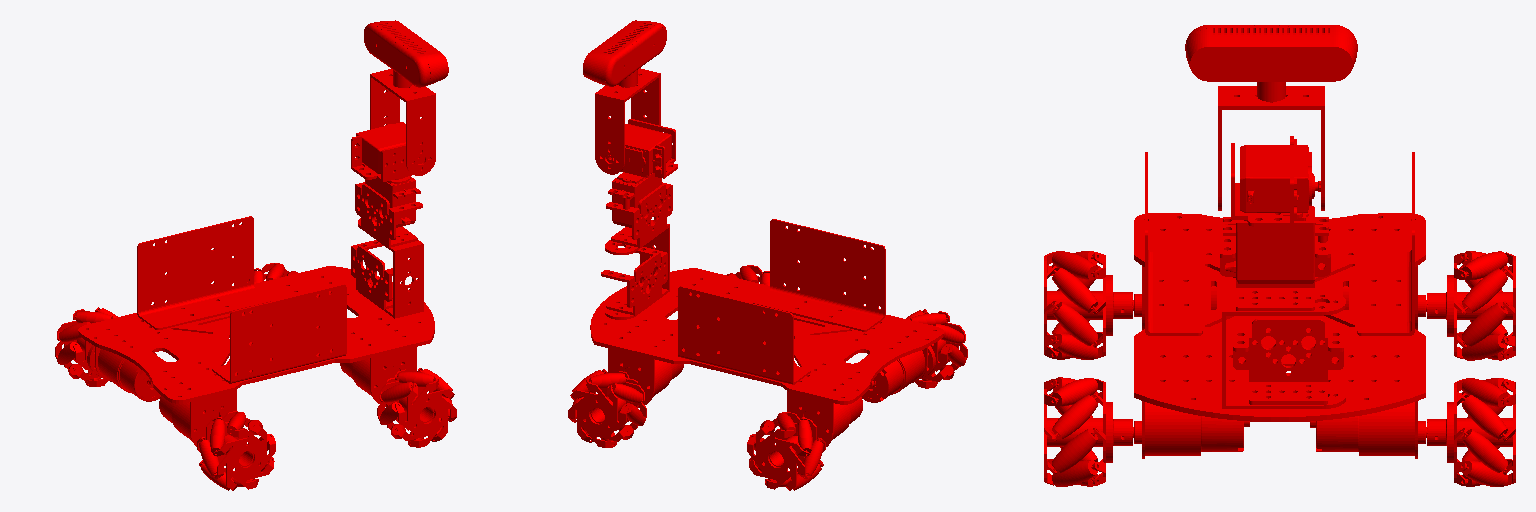
--- Render facts (derived) ---
Views: 3 orthographic renders of the robot side by side, from view 1: azimuth 30°, elevation 25°; view 2: azimuth 150°, elevation 25°; view 3: azimuth 270°, elevation 25°.
Model CAR_v000 with 57 links and 56 joints (38 continuous, 18 fixed), rooted at base_link, posed all joints at 0.
Visible links, largest first — view 1: base_link, Side_board_2, Side_board_1, Gear_Pan_Neck_1, D354_1, RightWheel_2, LeftWheel_2, Gear_Pan_Base_1, carboat_2_1, carboat_bot_1, Wheel_Motor_1, carboat_3_1 (+7 smaller); view 2: base_link, Side_board_1, Side_board_2, Gear_Pan_Neck_1, D354_1, LeftWheel_1, RightWheel_1, carboat_bot_1, carboat_2_1, Servo2_1, Wheel_Motor_4, Servo1_1 (+7 smaller); view 3: base_link, D354_1, carboat_bot_1, Servo1_1, Side_board_1, Side_board_2, Servo2_1, Wheel_Motor_2, Wheel_Motor_3, carboat_2_1, LeftWheel_1, LeftWheel_2 (+22 smaller).
Boxes of the visible links, <box> form: base_link: <box>78,266,434,403</box>; Side_board_2: <box>137,216,270,329</box>; Side_board_1: <box>212,284,346,383</box>; Gear_Pan_Neck_1: <box>370,69,435,175</box>; D354_1: <box>364,20,448,87</box>; RightWheel_2: <box>377,368,456,447</box>; LeftWheel_2: <box>197,411,275,490</box>; Gear_Pan_Base_1: <box>358,217,423,318</box>; carboat_2_1: <box>355,182,422,247</box>; carboat_bot_1: <box>351,240,409,309</box>; Wheel_Motor_1: <box>98,349,160,401</box>; carboat_3_1: <box>351,136,429,182</box>; base_link: <box>590,268,943,404</box>; Side_board_1: <box>753,219,885,331</box>; Side_board_2: <box>678,286,810,384</box>; Gear_Pan_Neck_1: <box>595,68,660,174</box>; D354_1: <box>583,20,666,86</box>; LeftWheel_1: <box>568,369,646,447</box>; RightWheel_1: <box>747,412,825,490</box>; carboat_bot_1: <box>601,247,667,315</box>; carboat_2_1: <box>606,182,672,247</box>; Servo2_1: <box>601,124,671,175</box>; Wheel_Motor_4: <box>862,350,924,402</box>; Servo1_1: <box>608,172,661,227</box>; base_link: <box>1134,213,1425,421</box>; D354_1: <box>1185,25,1357,81</box>; carboat_bot_1: <box>1233,319,1343,404</box>; Servo1_1: <box>1223,206,1328,283</box>; Side_board_1: <box>1145,152,1202,335</box>; Side_board_2: <box>1357,152,1414,335</box>; Servo2_1: <box>1240,139,1320,218</box>; Wheel_Motor_2: <box>1310,402,1437,455</box>; Wheel_Motor_3: <box>1122,402,1249,455</box>; carboat_2_1: <box>1220,233,1330,310</box>; LeftWheel_1: <box>1427,379,1515,485</box>; LeftWheel_2: <box>1044,252,1132,358</box>.
Bounding box of the posed robot: 0.2587 × 0.2457 × 0.2818 m (x, y, z).
57 mesh visuals loaded from 57 distinct referenced files (57 binary STL).

The robot description file, URDF, robot "CAR_v000":
<?xml version="1.0" ?>
<robot name="CAR_v000">
<link name="base_link">
  <inertial>
    <origin rpy="0 0 0" xyz="0.09570508957541472 -0.007999999999984186 -0.001500000000000009"/>
    <mass value="0.7665979453758464"/>
    <inertia ixx="0.001404" ixy="-0.0" ixz="0.0" iyy="0.00383" iyz="-0.0" izz="0.005233"/>
  </inertial>
  <visual>
    <origin rpy="0 0 0" xyz="0 0 0"/>
    <geometry>
      <mesh filename="bin_stl/base_link_m-binary.stl"/>
    </geometry>
    <material name="silver">
      <color rgba="1 0 0 1"/>
    </material>
  </visual>
  <collision>
    <origin rpy="0 0 0" xyz="0 0 0"/>
    <geometry>
      <mesh filename="bin_stl/base_link_m-binary.stl"/>
    </geometry>
  </collision>
</link>
<link name="Wheel_Motor_holder_v4_1">
  <inertial>
    <origin rpy="0 0 0" xyz="0.014980279064389493 -0.0014695146767486275 -0.009738743339461516"/>
    <mass value="0.04206846428767663"/>
    <inertia ixx="1.5e-05" ixy="0.0" ixz="-0.0" iyy="1.3e-05" iyz="4e-06" izz="1.4e-05"/>
  </inertial>
  <visual>
    <origin rpy="0 0 0" xyz="0.009 -0.053 0.003"/>
    <geometry>
      <mesh filename="bin_stl/Wheel_Motor_holder_v4_1_m-binary.stl"/>
    </geometry>
    <material name="silver">
      <color rgba="1 0 0 1"/>
    </material>
  </visual>
  <collision>
    <origin rpy="0 0 0" xyz="0.009 -0.053 0.003"/>
    <geometry>
      <mesh filename="bin_stl/Wheel_Motor_holder_v4_1_m-binary.stl"/>
    </geometry>
  </collision>
</link>
<link name="Wheel_Motor_holder_v4_2">
  <inertial>
    <origin rpy="0 0 0" xyz="-0.01501995653690974 -0.0014695146767421535 -0.009738743339461703"/>
    <mass value="0.04206846428767663"/>
    <inertia ixx="1.5e-05" ixy="0.0" ixz="-0.0" iyy="1.3e-05" iyz="4e-06" izz="1.4e-05"/>
  </inertial>
  <visual>
    <origin rpy="0 0 0" xyz="-0.177224 -0.053 0.003"/>
    <geometry>
      <mesh filename="bin_stl/Wheel_Motor_holder_v4_2_m-binary.stl"/>
    </geometry>
    <material name="silver">
      <color rgba="1 0 0 1"/>
    </material>
  </visual>
  <collision>
    <origin rpy="0 0 0" xyz="-0.177224 -0.053 0.003"/>
    <geometry>
      <mesh filename="bin_stl/Wheel_Motor_holder_v4_2_m-binary.stl"/>
    </geometry>
  </collision>
</link>
<link name="Wheel_Motor_holder_v4_3">
  <inertial>
    <origin rpy="0 0 0" xyz="-0.014980514665696831 0.0014695146767694511 -0.009738743339462005"/>
    <mass value="0.04206846428767663"/>
    <inertia ixx="1.5e-05" ixy="0.0" ixz="0.0" iyy="1.3e-05" iyz="-4e-06" izz="1.4e-05"/>
  </inertial>
  <visual>
    <origin rpy="0 0 0" xyz="-0.177224 0.069 0.003"/>
    <geometry>
      <mesh filename="bin_stl/Wheel_Motor_holder_v4_3_m-binary.stl"/>
    </geometry>
    <material name="silver">
      <color rgba="1 0 0 1"/>
    </material>
  </visual>
  <collision>
    <origin rpy="0 0 0" xyz="-0.177224 0.069 0.003"/>
    <geometry>
      <mesh filename="bin_stl/Wheel_Motor_holder_v4_3_m-binary.stl"/>
    </geometry>
  </collision>
</link>
<link name="Wheel_Motor_holder_v4_4">
  <inertial>
    <origin rpy="0 0 0" xyz="0.015019720935602422 0.001469514676748787 -0.00973874333946173"/>
    <mass value="0.04206846428767663"/>
    <inertia ixx="1.5e-05" ixy="0.0" ixz="0.0" iyy="1.3e-05" iyz="-4e-06" izz="1.4e-05"/>
  </inertial>
  <visual>
    <origin rpy="0 0 0" xyz="0.009 0.069 0.003"/>
    <geometry>
      <mesh filename="bin_stl/Wheel_Motor_holder_v4_4_m-binary.stl"/>
    </geometry>
    <material name="silver">
      <color rgba="1 0 0 1"/>
    </material>
  </visual>
  <collision>
    <origin rpy="0 0 0" xyz="0.009 0.069 0.003"/>
    <geometry>
      <mesh filename="bin_stl/Wheel_Motor_holder_v4_4_m-binary.stl"/>
    </geometry>
  </collision>
</link>
<link name="Side_board_1">
  <inertial>
    <origin rpy="0 0 0" xyz="-0.01494917383573581 -0.0028935529397421528 0.020556902828266686"/>
    <mass value="0.10281385598487688"/>
    <inertia ixx="4.7e-05" ixy="0.0" ixz="-0.0" iyy="0.000126" iyz="1e-05" izz="9.3e-05"/>
  </inertial>
  <visual>
    <origin rpy="0 0 0" xyz="-0.087 0.0699 0.0"/>
    <geometry>
      <mesh filename="bin_stl/Side_board_1_m-binary.stl"/>
    </geometry>
    <material name="silver">
      <color rgba="1 0 0 1"/>
    </material>
  </visual>
  <collision>
    <origin rpy="0 0 0" xyz="-0.087 0.0699 0.0"/>
    <geometry>
      <mesh filename="bin_stl/Side_board_1_m-binary.stl"/>
    </geometry>
  </collision>
</link>
<link name="Side_board_2">
  <inertial>
    <origin rpy="0 0 0" xyz="0.014949173835727282 0.0028935529397536713 0.020556902828266877"/>
    <mass value="0.10281385598487688"/>
    <inertia ixx="4.7e-05" ixy="0.0" ixz="0.0" iyy="0.000126" iyz="-1e-05" izz="9.3e-05"/>
  </inertial>
  <visual>
    <origin rpy="0 0 0" xyz="-0.057 -0.0539 -0.0"/>
    <geometry>
      <mesh filename="bin_stl/Side_board_2_m-binary.stl"/>
    </geometry>
    <material name="silver">
      <color rgba="1 0 0 1"/>
    </material>
  </visual>
  <collision>
    <origin rpy="0 0 0" xyz="-0.057 -0.0539 -0.0"/>
    <geometry>
      <mesh filename="bin_stl/Side_board_2_m-binary.stl"/>
    </geometry>
  </collision>
</link>
<link name="Gear_Pan_Base_1">
  <inertial>
    <origin rpy="0 0 0" xyz="-3.3728011883393805e-07 -0.023523519255164074 0.02799999999429037"/>
    <mass value="0.06854334361559104"/>
    <inertia ixx="6.7e-05" ixy="-0.0" ixz="0.0" iyy="4.4e-05" iyz="0.0" izz="3.1e-05"/>
  </inertial>
  <visual>
    <origin rpy="0 0 0" xyz="-0.199724 -0.007 -0.0"/>
    <geometry>
      <mesh filename="bin_stl/Gear_Pan_Base_1_m-binary.stl"/>
    </geometry>
    <material name="silver">
      <color rgba="1 0 0 1"/>
    </material>
  </visual>
  <collision>
    <origin rpy="0 0 0" xyz="-0.199724 -0.007 -0.0"/>
    <geometry>
      <mesh filename="bin_stl/Gear_Pan_Base_1_m-binary.stl"/>
    </geometry>
  </collision>
</link>
<link name="carboat_bot_1">
  <inertial>
    <origin rpy="0 0 0" xyz="-0.007337979399613531 0.017499972137289294 0.014605907953560182"/>
    <mass value="0.0475172457350421"/>
    <inertia ixx="2e-05" ixy="0.0" ixz="1e-06" iyy="1.1e-05" iyz="0.0" izz="1.5e-05"/>
  </inertial>
  <visual>
    <origin rpy="0 0 0" xyz="-0.199724 0.021 -0.0021"/>
    <geometry>
      <mesh filename="bin_stl/carboat_bot_1_m-binary.stl"/>
    </geometry>
    <material name="silver">
      <color rgba="1 0 0 1"/>
    </material>
  </visual>
  <collision>
    <origin rpy="0 0 0" xyz="-0.199724 0.021 -0.0021"/>
    <geometry>
      <mesh filename="bin_stl/carboat_bot_1_m-binary.stl"/>
    </geometry>
  </collision>
</link>
<link name="carboat_2_1">
  <inertial>
    <origin rpy="0 0 0" xyz="-0.00733797939961317 0.010499972137289105 0.014605907953560197"/>
    <mass value="0.0475172457350421"/>
    <inertia ixx="2e-05" ixy="0.0" ixz="1e-06" iyy="1.1e-05" iyz="0.0" izz="1.5e-05"/>
  </inertial>
  <visual>
    <origin rpy="0 0 0" xyz="-0.199724 0.021 -0.056"/>
    <geometry>
      <mesh filename="bin_stl/carboat_2_1_m-binary.stl"/>
    </geometry>
    <material name="silver">
      <color rgba="1 0 0 1"/>
    </material>
  </visual>
  <collision>
    <origin rpy="0 0 0" xyz="-0.199724 0.021 -0.056"/>
    <geometry>
      <mesh filename="bin_stl/carboat_2_1_m-binary.stl"/>
    </geometry>
  </collision>
</link>
<link name="carboat_3_1">
  <inertial>
    <origin rpy="0 0 0" xyz="-2.5216919485870903e-07 0.0005055238507020443 0.005662256589116094"/>
    <mass value="0.0475172457350421"/>
    <inertia ixx="1.1e-05" ixy="0.0" ixz="0.0" iyy="1.5e-05" iyz="1e-06" izz="2e-05"/>
  </inertial>
  <visual>
    <origin rpy="0 0 0" xyz="-0.199739 0.019476 -0.113752"/>
    <geometry>
      <mesh filename="bin_stl/carboat_3_1_m-binary.stl"/>
    </geometry>
    <material name="silver">
      <color rgba="1 0 0 1"/>
    </material>
  </visual>
  <collision>
    <origin rpy="0 0 0" xyz="-0.199739 0.019476 -0.113752"/>
    <geometry>
      <mesh filename="bin_stl/carboat_3_1_m-binary.stl"/>
    </geometry>
  </collision>
</link>
<link name="motor_support_1">
  <inertial>
    <origin rpy="0 0 0" xyz="-2.2430746302037896e-07 -3.8410285859748206e-07 0.004826000000000011"/>
    <mass value="0.0009521312819828578"/>
    <inertia ixx="0.0" ixy="-0.0" ixz="0.0" iyy="0.0" iyz="-0.0" izz="0.0"/>
  </inertial>
  <visual>
    <origin rpy="0 0 0" xyz="-0.194739 -0.014374 -0.0887"/>
    <geometry>
      <mesh filename="bin_stl/motor_support_1_m-binary.stl"/>
    </geometry>
    <material name="silver">
      <color rgba="1 0 0 1"/>
    </material>
  </visual>
  <collision>
    <origin rpy="0 0 0" xyz="-0.194739 -0.014374 -0.0887"/>
    <geometry>
      <mesh filename="bin_stl/motor_support_1_m-binary.stl"/>
    </geometry>
  </collision>
</link>
<link name="Servo1_1">
  <inertial>
    <origin rpy="0 0 0" xyz="0.004999776361403502 -0.024825025821425904 -0.009085741817137366"/>
    <mass value="0.25554569845209546"/>
    <inertia ixx="6.7e-05" ixy="0.0" ixz="-0.0" iyy="3.9e-05" iyz="0.0" izz="4.7e-05"/>
  </inertial>
  <visual>
    <origin rpy="0 0 0" xyz="-0.194739 -0.014374 -0.098352"/>
    <geometry>
      <mesh filename="bin_stl/Servo1_1_m-binary.stl"/>
    </geometry>
    <material name="silver">
      <color rgba="1 0 0 1"/>
    </material>
  </visual>
  <collision>
    <origin rpy="0 0 0" xyz="-0.194739 -0.014374 -0.098352"/>
    <geometry>
      <mesh filename="bin_stl/Servo1_1_m-binary.stl"/>
    </geometry>
  </collision>
</link>
<link name="Camera_support_1">
  <inertial>
    <origin rpy="0 0 0" xyz="3.9159065723382014e-07 -3.841030241733684e-07 0.006350011703253555"/>
    <mass value="0.012606343453885066"/>
    <inertia ixx="0.0" ixy="0.0" ixz="0.0" iyy="0.0" iyz="0.0" izz="0.0"/>
  </inertial>
  <visual>
    <origin rpy="0 0 0" xyz="-0.209162 0.012426 -0.178792"/>
    <geometry>
      <mesh filename="bin_stl/Camera_support_1_m-binary.stl"/>
    </geometry>
    <material name="silver">
      <color rgba="1 0 0 1"/>
    </material>
  </visual>
  <collision>
    <origin rpy="0 0 0" xyz="-0.209162 0.012426 -0.178792"/>
    <geometry>
      <mesh filename="bin_stl/Camera_support_1_m-binary.stl"/>
    </geometry>
  </collision>
</link>
<link name="D354_1">
  <inertial>
    <origin rpy="0 0 0" xyz="0.0019018702340913296 0.00024690506094453626 0.012439152691298971"/>
    <mass value="0.35132125245300416"/>
    <inertia ixx="0.000227" ixy="-1e-06" ixz="-0.0" iyy="3.2e-05" iyz="-0.0" izz="0.000229"/>
  </inertial>
  <visual>
    <origin rpy="0 0 0" xyz="-0.209162 0.012426 -0.191492"/>
    <geometry>
      <mesh filename="bin_stl/D354_1_m-binary.stl"/>
    </geometry>
    <material name="silver">
      <color rgba="1 0 0 1"/>
    </material>
  </visual>
  <collision>
    <origin rpy="0 0 0" xyz="-0.209162 0.012426 -0.191492"/>
    <geometry>
      <mesh filename="bin_stl/D354_1_m-binary.stl"/>
    </geometry>
  </collision>
</link>
<link name="Wheel_Motor_1">
  <inertial>
    <origin rpy="0 0 0" xyz="-0.01549413298973287 -0.024753744950228453 -0.00033026828675572495"/>
    <mass value="0.1253897990307548"/>
    <inertia ixx="5.8e-05" ixy="0.0" ixz="-0.0" iyy="2.2e-05" iyz="1e-06" izz="5.8e-05"/>
  </inertial>
  <visual>
    <origin rpy="0 0 0" xyz="-0.0218 -0.06235 0.029675"/>
    <geometry>
      <mesh filename="bin_stl/Wheel_Motor_1_m-binary.stl"/>
    </geometry>
    <material name="silver">
      <color rgba="1 0 0 1"/>
    </material>
  </visual>
  <collision>
    <origin rpy="0 0 0" xyz="-0.0218 -0.06235 0.029675"/>
    <geometry>
      <mesh filename="bin_stl/Wheel_Motor_1_m-binary.stl"/>
    </geometry>
  </collision>
</link>
<link name="Wheel_Motor_2">
  <inertial>
    <origin rpy="0 0 0" xyz="-0.015494368591032287 -0.024753744950222062 -0.0003302682867558915"/>
    <mass value="0.1253897990307548"/>
    <inertia ixx="5.8e-05" ixy="0.0" ixz="-0.0" iyy="2.2e-05" iyz="1e-06" izz="5.8e-05"/>
  </inertial>
  <visual>
    <origin rpy="0 0 0" xyz="-0.178024 -0.06235 0.029675"/>
    <geometry>
      <mesh filename="bin_stl/Wheel_Motor_2_m-binary.stl"/>
    </geometry>
    <material name="silver">
      <color rgba="1 0 0 1"/>
    </material>
  </visual>
  <collision>
    <origin rpy="0 0 0" xyz="-0.178024 -0.06235 0.029675"/>
    <geometry>
      <mesh filename="bin_stl/Wheel_Motor_2_m-binary.stl"/>
    </geometry>
  </collision>
</link>
<link name="Wheel_Motor_3">
  <inertial>
    <origin rpy="0 0 0" xyz="-0.015506102611575256 0.024753744950248603 -0.0003302682867560927"/>
    <mass value="0.1253897990307548"/>
    <inertia ixx="5.8e-05" ixy="0.0" ixz="0.0" iyy="2.2e-05" iyz="-1e-06" izz="5.8e-05"/>
  </inertial>
  <visual>
    <origin rpy="0 0 0" xyz="-0.177674 0.07835 0.029675"/>
    <geometry>
      <mesh filename="bin_stl/Wheel_Motor_3_m-binary.stl"/>
    </geometry>
    <material name="silver">
      <color rgba="1 0 0 1"/>
    </material>
  </visual>
  <collision>
    <origin rpy="0 0 0" xyz="-0.177674 0.07835 0.029675"/>
    <geometry>
      <mesh filename="bin_stl/Wheel_Motor_3_m-binary.stl"/>
    </geometry>
  </collision>
</link>
<link name="Wheel_Motor_4">
  <inertial>
    <origin rpy="0 0 0" xyz="0.015494132989723877 0.02475374495022936 -0.0003302682867558568"/>
    <mass value="0.1253897990307548"/>
    <inertia ixx="5.8e-05" ixy="0.0" ixz="0.0" iyy="2.2e-05" iyz="-1e-06" izz="5.8e-05"/>
  </inertial>
  <visual>
    <origin rpy="0 0 0" xyz="0.0098 0.07835 0.029675"/>
    <geometry>
      <mesh filename="bin_stl/Wheel_Motor_4_m-binary.stl"/>
    </geometry>
    <material name="silver">
      <color rgba="1 0 0 1"/>
    </material>
  </visual>
  <collision>
    <origin rpy="0 0 0" xyz="0.0098 0.07835 0.029675"/>
    <geometry>
      <mesh filename="bin_stl/Wheel_Motor_4_m-binary.stl"/>
    </geometry>
  </collision>
</link>
<link name="satelitewheel_1">
  <inertial>
    <origin rpy="0 0 0" xyz="1.3397573075946134e-07 -3.6957705445983535e-07 6.742742474780128e-08"/>
    <mass value="0.0020070751161032695"/>
    <inertia ixx="0.0" ixy="-0.0" ixz="0.0" iyy="0.0" iyz="-0.0" izz="0.0"/>
  </inertial>
  <visual>
    <origin rpy="0 0 0" xyz="-0.162525 -0.098849 0.013646"/>
    <geometry>
      <mesh filename="bin_stl/satelitewheel_1_m-binary.stl"/>
    </geometry>
    <material name="silver">
      <color rgba="1 0 0 1"/>
    </material>
  </visual>
  <collision>
    <origin rpy="0 0 0" xyz="-0.162525 -0.098849 0.013646"/>
    <geometry>
      <mesh filename="bin_stl/satelitewheel_1_m-binary.stl"/>
    </geometry>
  </collision>
</link>
<link name="satelitewheel_2">
  <inertial>
    <origin rpy="0 0 0" xyz="-2.7690643081279553e-07 -3.6957705516760253e-07 -2.1820454366994202e-08"/>
    <mass value="0.0020070751161032695"/>
    <inertia ixx="0.0" ixy="-0.0" ixz="-0.0" iyy="0.0" iyz="-0.0" izz="0.0"/>
  </inertial>
  <visual>
    <origin rpy="0 0 0" xyz="-0.146241 -0.098849 0.02039"/>
    <geometry>
      <mesh filename="bin_stl/satelitewheel_2_m-binary.stl"/>
    </geometry>
    <material name="silver">
      <color rgba="1 0 0 1"/>
    </material>
  </visual>
  <collision>
    <origin rpy="0 0 0" xyz="-0.146241 -0.098849 0.02039"/>
    <geometry>
      <mesh filename="bin_stl/satelitewheel_2_m-binary.stl"/>
    </geometry>
  </collision>
</link>
<link name="satelitewheel_3">
  <inertial>
    <origin rpy="0 0 0" xyz="-3.030287325234138e-07 -3.6957705445983535e-07 3.6957703840323486e-07"/>
    <mass value="0.0020070751161032695"/>
    <inertia ixx="0.0" ixy="-0.0" ixz="0.0" iyy="0.0" iyz="-0.0" izz="0.0"/>
  </inertial>
  <visual>
    <origin rpy="0 0 0" xyz="-0.139495 -0.098849 0.036674"/>
    <geometry>
      <mesh filename="bin_stl/satelitewheel_3_m-binary.stl"/>
    </geometry>
    <material name="silver">
      <color rgba="1 0 0 1"/>
    </material>
  </visual>
  <collision>
    <origin rpy="0 0 0" xyz="-0.139495 -0.098849 0.036674"/>
    <geometry>
      <mesh filename="bin_stl/satelitewheel_3_m-binary.stl"/>
    </geometry>
  </collision>
</link>
<link name="satelitewheel_4">
  <inertial>
    <origin rpy="0 0 0" xyz="-2.1378085279799564e-07 -3.695770543210575e-07 -4.1305121635526465e-08"/>
    <mass value="0.0020070751161032695"/>
    <inertia ixx="0.0" ixy="0.0" ixz="0.0" iyy="0.0" iyz="-0.0" izz="0.0"/>
  </inertial>
  <visual>
    <origin rpy="0 0 0" xyz="-0.146239 -0.098849 0.052958"/>
    <geometry>
      <mesh filename="bin_stl/satelitewheel_4_m-binary.stl"/>
    </geometry>
    <material name="silver">
      <color rgba="1 0 0 1"/>
    </material>
  </visual>
  <collision>
    <origin rpy="0 0 0" xyz="-0.146239 -0.098849 0.052958"/>
    <geometry>
      <mesh filename="bin_stl/satelitewheel_4_m-binary.stl"/>
    </geometry>
  </collision>
</link>
<link name="satelitewheel_5">
  <inertial>
    <origin rpy="0 0 0" xyz="3.9482165470339226e-07 -3.695770543210575e-07 -6.742742346410591e-08"/>
    <mass value="0.0020070751161032695"/>
    <inertia ixx="0.0" ixy="0.0" ixz="-0.0" iyy="0.0" iyz="-0.0" izz="0.0"/>
  </inertial>
  <visual>
    <origin rpy="0 0 0" xyz="-0.162522 -0.098849 0.059704"/>
    <geometry>
      <mesh filename="bin_stl/satelitewheel_5_m-binary.stl"/>
    </geometry>
    <material name="silver">
      <color rgba="1 0 0 1"/>
    </material>
  </visual>
  <collision>
    <origin rpy="0 0 0" xyz="-0.162522 -0.098849 0.059704"/>
    <geometry>
      <mesh filename="bin_stl/satelitewheel_5_m-binary.stl"/>
    </geometry>
  </collision>
</link>
<link name="satelitewheel_6">
  <inertial>
    <origin rpy="0 0 0" xyz="-1.9429618525190762e-07 -3.6957705402962393e-07 2.1820456171106617e-08"/>
    <mass value="0.0020070751161032695"/>
    <inertia ixx="0.0" ixy="0.0" ixz="-0.0" iyy="0.0" iyz="0.0" izz="0.0"/>
  </inertial>
  <visual>
    <origin rpy="0 0 0" xyz="-0.178807 -0.098849 0.05296"/>
    <geometry>
      <mesh filename="bin_stl/satelitewheel_6_m-binary.stl"/>
    </geometry>
    <material name="silver">
      <color rgba="1 0 0 1"/>
    </material>
  </visual>
  <collision>
    <origin rpy="0 0 0" xyz="-0.178807 -0.098849 0.05296"/>
    <geometry>
      <mesh filename="bin_stl/satelitewheel_6_m-binary.stl"/>
    </geometry>
  </collision>
</link>
<link name="satelitewheel_7">
  <inertial>
    <origin rpy="0 0 0" xyz="-1.6817388420742319e-07 -3.695770537520682e-07 -3.695770371334173e-07"/>
    <mass value="0.0020070751161032695"/>
    <inertia ixx="0.0" ixy="0.0" ixz="0.0" iyy="0.0" iyz="0.0" izz="0.0"/>
  </inertial>
  <visual>
    <origin rpy="0 0 0" xyz="-0.185553 -0.098849 0.036676"/>
    <geometry>
      <mesh filename="bin_stl/satelitewheel_7_m-binary.stl"/>
    </geometry>
    <material name="silver">
      <color rgba="1 0 0 1"/>
    </material>
  </visual>
  <collision>
    <origin rpy="0 0 0" xyz="-0.185553 -0.098849 0.036676"/>
    <geometry>
      <mesh filename="bin_stl/satelitewheel_7_m-binary.stl"/>
    </geometry>
  </collision>
</link>
<link name="satelitewheel_8">
  <inertial>
    <origin rpy="0 0 0" xyz="-2.5742176334997424e-07 -3.695770537520682e-07 4.130512357841676e-08"/>
    <mass value="0.0020070751161032695"/>
    <inertia ixx="0.0" ixy="-0.0" ixz="0.0" iyy="0.0" iyz="0.0" izz="0.0"/>
  </inertial>
  <visual>
    <origin rpy="0 0 0" xyz="-0.178809 -0.098849 0.020392"/>
    <geometry>
      <mesh filename="bin_stl/satelitewheel_8_m-binary.stl"/>
    </geometry>
    <material name="silver">
      <color rgba="1 0 0 1"/>
    </material>
  </visual>
  <collision>
    <origin rpy="0 0 0" xyz="-0.178809 -0.098849 0.020392"/>
    <geometry>
      <mesh filename="bin_stl/satelitewheel_8_m-binary.stl"/>
    </geometry>
  </collision>
</link>
<link name="satelitewheel_r_1">
  <inertial>
    <origin rpy="0 0 0" xyz="2.1820446501757962e-08 -3.6957706120444023e-07 4.130512300942746e-08"/>
    <mass value="0.0020070751161032695"/>
    <inertia ixx="0.0" ixy="0.0" ixz="-0.0" iyy="0.0" iyz="0.0" izz="0.0"/>
  </inertial>
  <visual>
    <origin rpy="0 0 0" xyz="0.009985 -0.098849 0.020392"/>
    <geometry>
      <mesh filename="bin_stl/satelitewheel_r_1_m-binary.stl"/>
    </geometry>
    <material name="silver">
      <color rgba="1 0 0 1"/>
    </material>
  </visual>
  <collision>
    <origin rpy="0 0 0" xyz="0.009985 -0.098849 0.020392"/>
    <geometry>
      <mesh filename="bin_stl/satelitewheel_r_1_m-binary.stl"/>
    </geometry>
  </collision>
</link>
<link name="satelitewheel_r_2">
  <inertial>
    <origin rpy="0 0 0" xyz="-6.742743233201232e-08 -3.695770607881066e-07 -3.6957703727913405e-07"/>
    <mass value="0.0020070751161032695"/>
    <inertia ixx="0.0" ixy="-0.0" ixz="-0.0" iyy="0.0" iyz="0.0" izz="0.0"/>
  </inertial>
  <visual>
    <origin rpy="0 0 0" xyz="0.016729 -0.098849 0.036676"/>
    <geometry>
      <mesh filename="bin_stl/satelitewheel_r_2_m-binary.stl"/>
    </geometry>
    <material name="silver">
      <color rgba="1 0 0 1"/>
    </material>
  </visual>
  <collision>
    <origin rpy="0 0 0" xyz="0.016729 -0.098849 0.036676"/>
    <geometry>
      <mesh filename="bin_stl/satelitewheel_r_2_m-binary.stl"/>
    </geometry>
  </collision>
</link>
<link name="satelitewheel_r_3">
  <inertial>
    <origin rpy="0 0 0" xyz="-4.1305131122729155e-08 -3.6957706085749553e-07 2.1820456129473254e-08"/>
    <mass value="0.0020070751161032695"/>
    <inertia ixx="0.0" ixy="-0.0" ixz="0.0" iyy="0.0" iyz="0.0" izz="0.0"/>
  </inertial>
  <visual>
    <origin rpy="0 0 0" xyz="0.009983 -0.098849 0.05296"/>
    <geometry>
      <mesh filename="bin_stl/satelitewheel_r_3_m-binary.stl"/>
    </geometry>
    <material name="silver">
      <color rgba="1 0 0 1"/>
    </material>
  </visual>
  <collision>
    <origin rpy="0 0 0" xyz="0.009983 -0.098849 0.05296"/>
    <geometry>
      <mesh filename="bin_stl/satelitewheel_r_3_m-binary.stl"/>
    </geometry>
  </collision>
</link>
<link name="satelitewheel_r_4">
  <inertial>
    <origin rpy="0 0 0" xyz="3.695770294477249e-07 -3.6957706149587377e-07 -6.74274230200167e-08"/>
    <mass value="0.0020070751161032695"/>
    <inertia ixx="0.0" ixy="-0.0" ixz="-0.0" iyy="0.0" iyz="0.0" izz="0.0"/>
  </inertial>
  <visual>
    <origin rpy="0 0 0" xyz="-0.006301 -0.098849 0.059704"/>
    <geometry>
      <mesh filename="bin_stl/satelitewheel_r_4_m-binary.stl"/>
    </geometry>
    <material name="silver">
      <color rgba="1 0 0 1"/>
    </material>
  </visual>
  <collision>
    <origin rpy="0 0 0" xyz="-0.006301 -0.098849 0.059704"/>
    <geometry>
      <mesh filename="bin_stl/satelitewheel_r_4_m-binary.stl"/>
    </geometry>
  </collision>
</link>
<link name="satelitewheel_r_5">
  <inertial>
    <origin rpy="0 0 0" xyz="-2.1820463571436965e-08 -3.695770609962734e-07 -4.1305121954715585e-08"/>
    <mass value="0.0020070751161032695"/>
    <inertia ixx="0.0" ixy="-0.0" ixz="-0.0" iyy="0.0" iyz="-0.0" izz="0.0"/>
  </inertial>
  <visual>
    <origin rpy="0 0 0" xyz="-0.022585 -0.098849 0.052958"/>
    <geometry>
      <mesh filename="bin_stl/satelitewheel_r_5_m-binary.stl"/>
    </geometry>
    <material name="silver">
      <color rgba="1 0 0 1"/>
    </material>
  </visual>
  <collision>
    <origin rpy="0 0 0" xyz="-0.022585 -0.098849 0.052958"/>
    <geometry>
      <mesh filename="bin_stl/satelitewheel_r_5_m-binary.stl"/>
    </geometry>
  </collision>
</link>
<link name="satelitewheel_r_6">
  <inertial>
    <origin rpy="0 0 0" xyz="6.742741604295888e-08 -3.6957706163465165e-07 3.6957703861834057e-07"/>
    <mass value="0.0020070751161032695"/>
    <inertia ixx="0.0" ixy="0.0" ixz="-0.0" iyy="0.0" iyz="-0.0" izz="0.0"/>
  </inertial>
  <visual>
    <origin rpy="0 0 0" xyz="-0.029329 -0.098849 0.036674"/>
    <geometry>
      <mesh filename="bin_stl/satelitewheel_r_6_m-binary.stl"/>
    </geometry>
    <material name="silver">
      <color rgba="1 0 0 1"/>
    </material>
  </visual>
  <collision>
    <origin rpy="0 0 0" xyz="-0.029329 -0.098849 0.036674"/>
    <geometry>
      <mesh filename="bin_stl/satelitewheel_r_6_m-binary.stl"/>
    </geometry>
  </collision>
</link>
<link name="satelitewheel_r_7">
  <inertial>
    <origin rpy="0 0 0" xyz="4.1305113839679164e-08 -3.695770622730299e-07 -2.1820453655757577e-08"/>
    <mass value="0.0020070751161032695"/>
    <inertia ixx="0.0" ixy="0.0" ixz="0.0" iyy="0.0" iyz="-0.0" izz="0.0"/>
  </inertial>
  <visual>
    <origin rpy="0 0 0" xyz="-0.022583 -0.098849 0.02039"/>
    <geometry>
      <mesh filename="bin_stl/satelitewheel_r_7_m-binary.stl"/>
    </geometry>
    <material name="silver">
      <color rgba="1 0 0 1"/>
    </material>
  </visual>
  <collision>
    <origin rpy="0 0 0" xyz="-0.022583 -0.098849 0.02039"/>
    <geometry>
      <mesh filename="bin_stl/satelitewheel_r_7_m-binary.stl"/>
    </geometry>
  </collision>
</link>
<link name="satelitewheel_r_8">
  <inertial>
    <origin rpy="0 0 0" xyz="-3.695770468756243e-07 -3.6957706234241883e-07 6.7427425125971e-08"/>
    <mass value="0.0020070751161032695"/>
    <inertia ixx="0.0" ixy="0.0" ixz="-0.0" iyy="0.0" iyz="-0.0" izz="0.0"/>
  </inertial>
  <visual>
    <origin rpy="0 0 0" xyz="-0.006299 -0.098849 0.013646"/>
    <geometry>
      <mesh filename="bin_stl/satelitewheel_r_8_m-binary.stl"/>
    </geometry>
    <material name="silver">
      <color rgba="1 0 0 1"/>
    </material>
  </visual>
  <collision>
    <origin rpy="0 0 0" xyz="-0.006299 -0.098849 0.013646"/>
    <geometry>
      <mesh filename="bin_stl/satelitewheel_r_8_m-binary.stl"/>
    </geometry>
  </collision>
</link>
<link name="satelitewheel_9">
  <inertial>
    <origin rpy="0 0 0" xyz="-3.6957703730602226e-07 3.695770618289407e-07 6.742742439738714e-08"/>
    <mass value="0.0020070751161032695"/>
    <inertia ixx="0.0" ixy="-0.0" ixz="0.0" iyy="0.0" iyz="-0.0" izz="0.0"/>
  </inertial>
  <visual>
    <origin rpy="0 0 0" xyz="-0.005699 0.114849 0.013646"/>
    <geometry>
      <mesh filename="bin_stl/satelitewheel_9_m-binary.stl"/>
    </geometry>
    <material name="silver">
      <color rgba="1 0 0 1"/>
    </material>
  </visual>
  <collision>
    <origin rpy="0 0 0" xyz="-0.005699 0.114849 0.013646"/>
    <geometry>
      <mesh filename="bin_stl/satelitewheel_9_m-binary.stl"/>
    </geometry>
  </collision>
</link>
<link name="satelitewheel_11">
  <inertial>
    <origin rpy="0 0 0" xyz="4.130512394270869e-08 3.695770611211735e-07 -2.1820454082499552e-08"/>
    <mass value="0.0020070751161032695"/>
    <inertia ixx="0.0" ixy="-0.0" ixz="0.0" iyy="0.0" iyz="0.0" izz="0.0"/>
  </inertial>
  <visual>
    <origin rpy="0 0 0" xyz="-0.021983 0.114849 0.02039"/>
    <geometry>
      <mesh filename="bin_stl/satelitewheel_11_m-binary.stl"/>
    </geometry>
    <material name="silver">
      <color rgba="1 0 0 1"/>
    </material>
  </visual>
  <collision>
    <origin rpy="0 0 0" xyz="-0.021983 0.114849 0.02039"/>
    <geometry>
      <mesh filename="bin_stl/satelitewheel_11_m-binary.stl"/>
    </geometry>
  </collision>
</link>
<link name="satelitewheel_12">
  <inertial>
    <origin rpy="0 0 0" xyz="6.74274254139351e-08 3.695770620509853e-07 3.6957703911794093e-07"/>
    <mass value="0.0020070751161032695"/>
    <inertia ixx="0.0" ixy="0.0" ixz="0.0" iyy="0.0" iyz="0.0" izz="0.0"/>
  </inertial>
  <visual>
    <origin rpy="0 0 0" xyz="-0.028729 0.114849 0.036674"/>
    <geometry>
      <mesh filename="bin_stl/satelitewheel_12_m-binary.stl"/>
    </geometry>
    <material name="silver">
      <color rgba="1 0 0 1"/>
    </material>
  </visual>
  <collision>
    <origin rpy="0 0 0" xyz="-0.028729 0.114849 0.036674"/>
    <geometry>
      <mesh filename="bin_stl/satelitewheel_12_m-binary.stl"/>
    </geometry>
  </collision>
</link>
<link name="satelitewheel_10">
  <inertial>
    <origin rpy="0 0 0" xyz="-2.1820453256771177e-08 3.695770616901628e-07 -4.1305122204515765e-08"/>
    <mass value="0.0020070751161032695"/>
    <inertia ixx="0.0" ixy="0.0" ixz="-0.0" iyy="0.0" iyz="0.0" izz="0.0"/>
  </inertial>
  <visual>
    <origin rpy="0 0 0" xyz="-0.021985 0.114849 0.052958"/>
    <geometry>
      <mesh filename="bin_stl/satelitewheel_10_m-binary.stl"/>
    </geometry>
    <material name="silver">
      <color rgba="1 0 0 1"/>
    </material>
  </visual>
  <collision>
    <origin rpy="0 0 0" xyz="-0.021985 0.114849 0.052958"/>
    <geometry>
      <mesh filename="bin_stl/satelitewheel_10_m-binary.stl"/>
    </geometry>
  </collision>
</link>
<link name="satelitewheel_13">
  <inertial>
    <origin rpy="0 0 0" xyz="3.695770404380655e-07 3.695770615513849e-07 -6.742742385268397e-08"/>
    <mass value="0.0020070751161032695"/>
    <inertia ixx="0.0" ixy="0.0" ixz="-0.0" iyy="0.0" iyz="-0.0" izz="0.0"/>
  </inertial>
  <visual>
    <origin rpy="0 0 0" xyz="-0.005701 0.114849 0.059704"/>
    <geometry>
      <mesh filename="bin_stl/satelitewheel_13_m-binary.stl"/>
    </geometry>
    <material name="silver">
      <color rgba="1 0 0 1"/>
    </material>
  </visual>
  <collision>
    <origin rpy="0 0 0" xyz="-0.005701 0.114849 0.059704"/>
    <geometry>
      <mesh filename="bin_stl/satelitewheel_13_m-binary.stl"/>
    </geometry>
  </collision>
</link>
<link name="satelitewheel_16">
  <inertial>
    <origin rpy="0 0 0" xyz="-4.1305121127252487e-08 3.695770610934179e-07 2.1820455033128017e-08"/>
    <mass value="0.0020070751161032695"/>
    <inertia ixx="0.0" ixy="0.0" ixz="0.0" iyy="0.0" iyz="-0.0" izz="0.0"/>
  </inertial>
  <visual>
    <origin rpy="0 0 0" xyz="0.010583 0.114849 0.05296"/>
    <geometry>
      <mesh filename="bin_stl/satelitewheel_16_m-binary.stl"/>
    </geometry>
    <material name="silver">
      <color rgba="1 0 0 1"/>
    </material>
  </visual>
  <collision>
    <origin rpy="0 0 0" xyz="0.010583 0.114849 0.05296"/>
    <geometry>
      <mesh filename="bin_stl/satelitewheel_16_m-binary.stl"/>
    </geometry>
  </collision>
</link>
<link name="satelitewheel_15">
  <inertial>
    <origin rpy="0 0 0" xyz="-6.742742283613601e-08 3.695770616901628e-07 -3.6957703862527946e-07"/>
    <mass value="0.0020070751161032695"/>
    <inertia ixx="0.0" ixy="-0.0" ixz="0.0" iyy="0.0" iyz="-0.0" izz="0.0"/>
  </inertial>
  <visual>
    <origin rpy="0 0 0" xyz="0.017329 0.114849 0.036676"/>
    <geometry>
      <mesh filename="bin_stl/satelitewheel_15_m-binary.stl"/>
    </geometry>
    <material name="silver">
      <color rgba="1 0 0 1"/>
    </material>
  </visual>
  <collision>
    <origin rpy="0 0 0" xyz="0.017329 0.114849 0.036676"/>
    <geometry>
      <mesh filename="bin_stl/satelitewheel_15_m-binary.stl"/>
    </geometry>
  </collision>
</link>
<link name="satelitewheel_14">
  <inertial>
    <origin rpy="0 0 0" xyz="2.1820456389681775e-08 3.695770621203742e-07 4.130512294003852e-08"/>
    <mass value="0.0020070751161032695"/>
    <inertia ixx="0.0" ixy="-0.0" ixz="-0.0" iyy="0.0" iyz="-0.0" izz="0.0"/>
  </inertial>
  <visual>
    <origin rpy="0 0 0" xyz="0.010585 0.114849 0.020392"/>
    <geometry>
      <mesh filename="bin_stl/satelitewheel_14_m-binary.stl"/>
    </geometry>
    <material name="silver">
      <color rgba="1 0 0 1"/>
    </material>
  </visual>
  <collision>
    <origin rpy="0 0 0" xyz="0.010585 0.114849 0.020392"/>
    <geometry>
      <mesh filename="bin_stl/satelitewheel_14_m-binary.stl"/>
    </geometry>
  </collision>
</link>
<link name="satelitewheel_r_9">
  <inertial>
    <origin rpy="0 0 0" xyz="-2.5742175310816684e-07 3.695770815909105e-07 4.1305123116980313e-08"/>
    <mass value="0.0020070751161032695"/>
    <inertia ixx="0.0" ixy="0.0" ixz="0.0" iyy="0.0" iyz="-0.0" izz="0.0"/>
  </inertial>
  <visual>
    <origin rpy="0 0 0" xyz="-0.178459 0.114849 0.020392"/>
    <geometry>
      <mesh filename="bin_stl/satelitewheel_r_9_m-binary.stl"/>
    </geometry>
    <material name="silver">
      <color rgba="1 0 0 1"/>
    </material>
  </visual>
  <collision>
    <origin rpy="0 0 0" xyz="-0.178459 0.114849 0.020392"/>
    <geometry>
      <mesh filename="bin_stl/satelitewheel_r_9_m-binary.stl"/>
    </geometry>
  </collision>
</link>
<link name="satelitewheel_r_10">
  <inertial>
    <origin rpy="0 0 0" xyz="-1.6817387385459348e-07 3.695770807998766e-07 -3.695770382713959e-07"/>
    <mass value="0.0020070751161032695"/>
    <inertia ixx="0.0" ixy="0.0" ixz="-0.0" iyy="0.0" iyz="-0.0" izz="0.0"/>
  </inertial>
  <visual>
    <origin rpy="0 0 0" xyz="-0.185203 0.114849 0.036676"/>
    <geometry>
      <mesh filename="bin_stl/satelitewheel_r_10_m-binary.stl"/>
    </geometry>
    <material name="silver">
      <color rgba="1 0 0 1"/>
    </material>
  </visual>
  <collision>
    <origin rpy="0 0 0" xyz="-0.185203 0.114849 0.036676"/>
    <geometry>
      <mesh filename="bin_stl/satelitewheel_r_10_m-binary.stl"/>
    </geometry>
  </collision>
</link>
<link name="satelitewheel_r_11">
  <inertial>
    <origin rpy="0 0 0" xyz="-1.9429617501010021e-07 3.695770810219212e-07 2.1820454998433547e-08"/>
    <mass value="0.0020070751161032695"/>
    <inertia ixx="0.0" ixy="-0.0" ixz="-0.0" iyy="0.0" iyz="-0.0" izz="0.0"/>
  </inertial>
  <visual>
    <origin rpy="0 0 0" xyz="-0.178457 0.114849 0.05296"/>
    <geometry>
      <mesh filename="bin_stl/satelitewheel_r_11_m-binary.stl"/>
    </geometry>
    <material name="silver">
      <color rgba="1 0 0 1"/>
    </material>
  </visual>
  <collision>
    <origin rpy="0 0 0" xyz="-0.178457 0.114849 0.05296"/>
    <geometry>
      <mesh filename="bin_stl/satelitewheel_r_11_m-binary.stl"/>
    </geometry>
  </collision>
</link>
<link name="satelitewheel_r_16">
  <inertial>
    <origin rpy="0 0 0" xyz="3.948216644455993e-07 3.695770817296884e-07 -6.742742413717862e-08"/>
    <mass value="0.0020070751161032695"/>
    <inertia ixx="0.0" ixy="-0.0" ixz="-0.0" iyy="0.0" iyz="0.0" izz="0.0"/>
  </inertial>
  <visual>
    <origin rpy="0 0 0" xyz="-0.162172 0.114849 0.059704"/>
    <geometry>
      <mesh filename="bin_stl/satelitewheel_r_16_m-binary.stl"/>
    </geometry>
    <material name="silver">
      <color rgba="1 0 0 1"/>
    </material>
  </visual>
  <collision>
    <origin rpy="0 0 0" xyz="-0.162172 0.114849 0.059704"/>
    <geometry>
      <mesh filename="bin_stl/satelitewheel_r_16_m-binary.stl"/>
    </geometry>
  </collision>
</link>
<link name="satelitewheel_r_15">
  <inertial>
    <origin rpy="0 0 0" xyz="-2.1378084216761017e-07 3.6957708129947697e-07 -4.130512298167188e-08"/>
    <mass value="0.0020070751161032695"/>
    <inertia ixx="0.0" ixy="-0.0" ixz="0.0" iyy="0.0" iyz="0.0" izz="0.0"/>
  </inertial>
  <visual>
    <origin rpy="0 0 0" xyz="-0.145889 0.114849 0.052958"/>
    <geometry>
      <mesh filename="bin_stl/satelitewheel_r_15_m-binary.stl"/>
    </geometry>
    <material name="silver">
      <color rgba="1 0 0 1"/>
    </material>
  </visual>
  <collision>
    <origin rpy="0 0 0" xyz="-0.145889 0.114849 0.052958"/>
    <geometry>
      <mesh filename="bin_stl/satelitewheel_r_15_m-binary.stl"/>
    </geometry>
  </collision>
</link>
<link name="satelitewheel_r_12">
  <inertial>
    <origin rpy="0 0 0" xyz="-3.0302872186527274e-07 3.6957708145213264e-07 3.6957703804935127e-07"/>
    <mass value="0.0020070751161032695"/>
    <inertia ixx="0.0" ixy="-0.0" ixz="-0.0" iyy="0.0" iyz="0.0" izz="0.0"/>
  </inertial>
  <visual>
    <origin rpy="0 0 0" xyz="-0.139145 0.114849 0.036674"/>
    <geometry>
      <mesh filename="bin_stl/satelitewheel_r_12_m-binary.stl"/>
    </geometry>
    <material name="silver">
      <color rgba="1 0 0 1"/>
    </material>
  </visual>
  <collision>
    <origin rpy="0 0 0" xyz="-0.139145 0.114849 0.036674"/>
    <geometry>
      <mesh filename="bin_stl/satelitewheel_r_12_m-binary.stl"/>
    </geometry>
  </collision>
</link>
<link name="satelitewheel_r_13">
  <inertial>
    <origin rpy="0 0 0" xyz="-2.7690642068201043e-07 3.695770815909105e-07 -2.1820455362725477e-08"/>
    <mass value="0.0020070751161032695"/>
    <inertia ixx="0.0" ixy="0.0" ixz="-0.0" iyy="0.0" iyz="0.0" izz="0.0"/>
  </inertial>
  <visual>
    <origin rpy="0 0 0" xyz="-0.145891 0.114849 0.02039"/>
    <geometry>
      <mesh filename="bin_stl/satelitewheel_r_13_m-binary.stl"/>
    </geometry>
    <material name="silver">
      <color rgba="1 0 0 1"/>
    </material>
  </visual>
  <collision>
    <origin rpy="0 0 0" xyz="-0.145891 0.114849 0.02039"/>
    <geometry>
      <mesh filename="bin_stl/satelitewheel_r_13_m-binary.stl"/>
    </geometry>
  </collision>
</link>
<link name="satelitewheel_r_14">
  <inertial>
    <origin rpy="0 0 0" xyz="1.3397574033513493e-07 3.695770811606991e-07 6.742742393942014e-08"/>
    <mass value="0.0020070751161032695"/>
    <inertia ixx="0.0" ixy="0.0" ixz="-0.0" iyy="0.0" iyz="0.0" izz="0.0"/>
  </inertial>
  <visual>
    <origin rpy="0 0 0" xyz="-0.162175 0.114849 0.013646"/>
    <geometry>
      <mesh filename="bin_stl/satelitewheel_r_14_m-binary.stl"/>
    </geometry>
    <material name="silver">
      <color rgba="1 0 0 1"/>
    </material>
  </visual>
  <collision>
    <origin rpy="0 0 0" xyz="-0.162175 0.114849 0.013646"/>
    <geometry>
      <mesh filename="bin_stl/satelitewheel_r_14_m-binary.stl"/>
    </geometry>
  </collision>
</link>
<link name="LeftWheel_1">
  <inertial>
    <origin rpy="0 0 0" xyz="-2.3560323034188535e-07 0.015199605891814835 5.855822771128061e-12"/>
    <mass value="0.0837215779035776"/>
    <inertia ixx="2.6e-05" ixy="0.0" ixz="-0.0" iyy="1.7e-05" iyz="-0.0" izz="2.6e-05"/>
  </inertial>
  <visual>
    <origin rpy="0 0 0" xyz="-0.162524 -0.07585 0.036675"/>
    <geometry>
      <mesh filename="bin_stl/LeftWheel_1_m-binary.stl"/>
    </geometry>
    <material name="silver">
      <color rgba="1 0 0 1"/>
    </material>
  </visual>
  <collision>
    <origin rpy="0 0 0" xyz="-0.162524 -0.07585 0.036675"/>
    <geometry>
      <mesh filename="bin_stl/LeftWheel_1_m-binary.stl"/>
    </geometry>
  </collision>
</link>
<link name="RightWheel_1">
  <inertial>
    <origin rpy="0 0 0" xyz="-7.548579816774037e-13 0.015199605891808465 -2.5597510222574726e-12"/>
    <mass value="0.08372157790357845"/>
    <inertia ixx="2.6e-05" ixy="-0.0" ixz="-0.0" iyy="1.7e-05" iyz="-0.0" izz="2.6e-05"/>
  </inertial>
  <visual>
    <origin rpy="0 0 0" xyz="-0.0063 -0.07585 0.036675"/>
    <geometry>
      <mesh filename="bin_stl/RightWheel_1_m-binary.stl"/>
    </geometry>
    <material name="silver">
      <color rgba="1 0 0 1"/>
    </material>
  </visual>
  <collision>
    <origin rpy="0 0 0" xyz="-0.0063 -0.07585 0.036675"/>
    <geometry>
      <mesh filename="bin_stl/RightWheel_1_m-binary.stl"/>
    </geometry>
  </collision>
</link>
<link name="RightWheel_2">
  <inertial>
    <origin rpy="0 0 0" xyz="-2.356005511794379e-07 -0.015199605891788301 -2.560326950451497e-12"/>
    <mass value="0.08372157790357845"/>
    <inertia ixx="2.6e-05" ixy="-0.0" ixz="0.0" iyy="1.7e-05" iyz="0.0" izz="2.6e-05"/>
  </inertial>
  <visual>
    <origin rpy="0 0 0" xyz="-0.162174 0.09185 0.036675"/>
    <geometry>
      <mesh filename="bin_stl/RightWheel_2_m-binary.stl"/>
    </geometry>
    <material name="silver">
      <color rgba="1 0 0 1"/>
    </material>
  </visual>
  <collision>
    <origin rpy="0 0 0" xyz="-0.162174 0.09185 0.036675"/>
    <geometry>
      <mesh filename="bin_stl/RightWheel_2_m-binary.stl"/>
    </geometry>
  </collision>
</link>
<link name="LeftWheel_2">
  <inertial>
    <origin rpy="0 0 0" xyz="1.923808334858279e-12 -0.015199605891807577 5.855649298780463e-12"/>
    <mass value="0.0837215779035776"/>
    <inertia ixx="2.6e-05" ixy="0.0" ixz="0.0" iyy="1.7e-05" iyz="0.0" izz="2.6e-05"/>
  </inertial>
  <visual>
    <origin rpy="0 0 0" xyz="-0.0057 0.09185 0.036675"/>
    <geometry>
      <mesh filename="bin_stl/LeftWheel_2_m-binary.stl"/>
    </geometry>
    <material name="silver">
      <color rgba="1 0 0 1"/>
    </material>
  </visual>
  <collision>
    <origin rpy="0 0 0" xyz="-0.0057 0.09185 0.036675"/>
    <geometry>
      <mesh filename="bin_stl/LeftWheel_2_m-binary.stl"/>
    </geometry>
  </collision>
</link>
<link name="Servo2_1">
  <inertial>
    <origin rpy="0 0 0" xyz="-0.024474966690774896 -0.009086125919995813 0.005000011014387476"/>
    <mass value="0.25554569845209546"/>
    <inertia ixx="3.9e-05" ixy="-0.0" ixz="0.0" iyy="4.7e-05" iyz="0.0" izz="6.7e-05"/>
  </inertial>
  <visual>
    <origin rpy="0 0 0" xyz="-0.224612 0.000876 -0.121767"/>
    <geometry>
      <mesh filename="bin_stl/Servo2_1_m-binary.stl"/>
    </geometry>
    <material name="silver">
      <color rgba="1 0 0 1"/>
    </material>
  </visual>
  <collision>
    <origin rpy="0 0 0" xyz="-0.224612 0.000876 -0.121767"/>
    <geometry>
      <mesh filename="bin_stl/Servo2_1_m-binary.stl"/>
    </geometry>
  </collision>
</link>
<link name="Gear_Pan_Neck_1">
  <inertial>
    <origin rpy="0 0 0" xyz="2.899118378696386e-07 -0.02695038410856762 0.030523530937439175"/>
    <mass value="0.06854334361559104"/>
    <inertia ixx="6.7e-05" ixy="-0.0" ixz="0.0" iyy="3.1e-05" iyz="-0.0" izz="4.4e-05"/>
  </inertial>
  <visual>
    <origin rpy="0 0 0" xyz="-0.209162 -0.014524 -0.126767"/>
    <geometry>
      <mesh filename="bin_stl/Gear_Pan_Neck_1_m-binary.stl"/>
    </geometry>
    <material name="silver">
      <color rgba="1 0 0 1"/>
    </material>
  </visual>
  <collision>
    <origin rpy="0 0 0" xyz="-0.209162 -0.014524 -0.126767"/>
    <geometry>
      <mesh filename="bin_stl/Gear_Pan_Neck_1_m-binary.stl"/>
    </geometry>
  </collision>
</link>
<joint name="rigid31" type="fixed">
  <origin rpy="0 0 0" xyz="-0.009 0.053 -0.003"/>
  <parent link="base_link"/>
  <child link="Wheel_Motor_holder_v4_1"/>
</joint>
<transmission name="rigid31_tran">
  <type>transmission_interface/SimpleTransmission</type>
  <joint name="rigid31">
    <hardwareInterface>PositionJointInterface</hardwareInterface>
  </joint>
  <actuator name="rigid31_actr">
    <hardwareInterface>PositionJointInterface</hardwareInterface>
    <mechanicalReduction>1</mechanicalReduction>
  </actuator>
</transmission>
<joint name="rigid32" type="fixed">
  <origin rpy="0 0 0" xyz="0.177224 0.053 -0.003"/>
  <parent link="base_link"/>
  <child link="Wheel_Motor_holder_v4_2"/>
</joint>
<transmission name="rigid32_tran">
  <type>transmission_interface/SimpleTransmission</type>
  <joint name="rigid32">
    <hardwareInterface>PositionJointInterface</hardwareInterface>
  </joint>
  <actuator name="rigid32_actr">
    <hardwareInterface>PositionJointInterface</hardwareInterface>
    <mechanicalReduction>1</mechanicalReduction>
  </actuator>
</transmission>
<joint name="rigid33" type="fixed">
  <origin rpy="0 0 0" xyz="0.177224 -0.069 -0.003"/>
  <parent link="base_link"/>
  <child link="Wheel_Motor_holder_v4_3"/>
</joint>
<transmission name="rigid33_tran">
  <type>transmission_interface/SimpleTransmission</type>
  <joint name="rigid33">
    <hardwareInterface>PositionJointInterface</hardwareInterface>
  </joint>
  <actuator name="rigid33_actr">
    <hardwareInterface>PositionJointInterface</hardwareInterface>
    <mechanicalReduction>1</mechanicalReduction>
  </actuator>
</transmission>
<joint name="rigid34" type="fixed">
  <origin rpy="0 0 0" xyz="-0.009 -0.069 -0.003"/>
  <parent link="base_link"/>
  <child link="Wheel_Motor_holder_v4_4"/>
</joint>
<transmission name="rigid34_tran">
  <type>transmission_interface/SimpleTransmission</type>
  <joint name="rigid34">
    <hardwareInterface>PositionJointInterface</hardwareInterface>
  </joint>
  <actuator name="rigid34_actr">
    <hardwareInterface>PositionJointInterface</hardwareInterface>
    <mechanicalReduction>1</mechanicalReduction>
  </actuator>
</transmission>
<joint name="rigid35" type="fixed">
  <origin rpy="0 0 0" xyz="0.087 -0.0699 0.0"/>
  <parent link="base_link"/>
  <child link="Side_board_1"/>
</joint>
<transmission name="rigid35_tran">
  <type>transmission_interface/SimpleTransmission</type>
  <joint name="rigid35">
    <hardwareInterface>PositionJointInterface</hardwareInterface>
  </joint>
  <actuator name="rigid35_actr">
    <hardwareInterface>PositionJointInterface</hardwareInterface>
    <mechanicalReduction>1</mechanicalReduction>
  </actuator>
</transmission>
<joint name="rigid36" type="fixed">
  <origin rpy="0 0 0" xyz="0.057 0.0539 0.0"/>
  <parent link="base_link"/>
  <child link="Side_board_2"/>
</joint>
<transmission name="rigid36_tran">
  <type>transmission_interface/SimpleTransmission</type>
  <joint name="rigid36">
    <hardwareInterface>PositionJointInterface</hardwareInterface>
  </joint>
  <actuator name="rigid36_actr">
    <hardwareInterface>PositionJointInterface</hardwareInterface>
    <mechanicalReduction>1</mechanicalReduction>
  </actuator>
</transmission>
<joint name="rigid37" type="fixed">
  <origin rpy="0 0 0" xyz="0.199724 0.007 0.0"/>
  <parent link="base_link"/>
  <child link="Gear_Pan_Base_1"/>
</joint>
<transmission name="rigid37_tran">
  <type>transmission_interface/SimpleTransmission</type>
  <joint name="rigid37">
    <hardwareInterface>PositionJointInterface</hardwareInterface>
  </joint>
  <actuator name="rigid37_actr">
    <hardwareInterface>PositionJointInterface</hardwareInterface>
    <mechanicalReduction>1</mechanicalReduction>
  </actuator>
</transmission>
<joint name="rigid38" type="fixed">
  <origin rpy="0 0 0" xyz="0.0 -0.028 0.0021"/>
  <parent link="Gear_Pan_Base_1"/>
  <child link="carboat_bot_1"/>
</joint>
<transmission name="rigid38_tran">
  <type>transmission_interface/SimpleTransmission</type>
  <joint name="rigid38">
    <hardwareInterface>PositionJointInterface</hardwareInterface>
  </joint>
  <actuator name="rigid38_actr">
    <hardwareInterface>PositionJointInterface</hardwareInterface>
    <mechanicalReduction>1</mechanicalReduction>
  </actuator>
</transmission>
<joint name="rigid39" type="fixed">
  <origin rpy="0 0 0" xyz="0.0 -0.028 0.056"/>
  <parent link="Gear_Pan_Base_1"/>
  <child link="carboat_2_1"/>
</joint>
<transmission name="rigid39_tran">
  <type>transmission_interface/SimpleTransmission</type>
  <joint name="rigid39">
    <hardwareInterface>PositionJointInterface</hardwareInterface>
  </joint>
  <actuator name="rigid39_actr">
    <hardwareInterface>PositionJointInterface</hardwareInterface>
    <mechanicalReduction>1</mechanicalReduction>
  </actuator>
</transmission>
<joint name="Bot_motor" type="continuous">
  <origin rpy="0 0 0" xyz="0.005 -0.03385 0.0154"/>
  <parent link="Servo1_1"/>
  <child link="carboat_3_1"/>
  <axis xyz="-0.0 0.0 -0.01"/>
</joint>
<transmission name="Bot_motor_tran">
  <type>transmission_interface/SimpleTransmission</type>
  <joint name="Bot_motor">
    <hardwareInterface>PositionJointInterface</hardwareInterface>
  </joint>
  <actuator name="Bot_motor_actr">
    <hardwareInterface>PositionJointInterface</hardwareInterface>
    <mechanicalReduction>1</mechanicalReduction>
  </actuator>
</transmission>
<joint name="rigid43" type="fixed">
  <origin rpy="0 0 0" xyz="-0.004985 0.035374 0.0327"/>
  <parent link="carboat_2_1"/>
  <child link="motor_support_1"/>
</joint>
<transmission name="rigid43_tran">
  <type>transmission_interface/SimpleTransmission</type>
  <joint name="rigid43">
    <hardwareInterface>PositionJointInterface</hardwareInterface>
  </joint>
  <actuator name="rigid43_actr">
    <hardwareInterface>PositionJointInterface</hardwareInterface>
    <mechanicalReduction>1</mechanicalReduction>
  </actuator>
</transmission>
<joint name="rigid44" type="fixed">
  <origin rpy="0 0 0" xyz="0.0 0.0 0.009652"/>
  <parent link="motor_support_1"/>
  <child link="Servo1_1"/>
</joint>
<transmission name="rigid44_tran">
  <type>transmission_interface/SimpleTransmission</type>
  <joint name="rigid44">
    <hardwareInterface>PositionJointInterface</hardwareInterface>
  </joint>
  <actuator name="rigid44_actr">
    <hardwareInterface>PositionJointInterface</hardwareInterface>
    <mechanicalReduction>1</mechanicalReduction>
  </actuator>
</transmission>
<joint name="rigid46" type="fixed">
  <origin rpy="0 0 0" xyz="0.0 -0.02695 0.052025"/>
  <parent link="Gear_Pan_Neck_1"/>
  <child link="Camera_support_1"/>
</joint>
<transmission name="rigid46_tran">
  <type>transmission_interface/SimpleTransmission</type>
  <joint name="rigid46">
    <hardwareInterface>PositionJointInterface</hardwareInterface>
  </joint>
  <actuator name="rigid46_actr">
    <hardwareInterface>PositionJointInterface</hardwareInterface>
    <mechanicalReduction>1</mechanicalReduction>
  </actuator>
</transmission>
<joint name="rigid47" type="fixed">
  <origin rpy="0 0 0" xyz="0.0 0.0 0.0127"/>
  <parent link="Camera_support_1"/>
  <child link="D354_1"/>
</joint>
<transmission name="rigid47_tran">
  <type>transmission_interface/SimpleTransmission</type>
  <joint name="rigid47">
    <hardwareInterface>PositionJointInterface</hardwareInterface>
  </joint>
  <actuator name="rigid47_actr">
    <hardwareInterface>PositionJointInterface</hardwareInterface>
    <mechanicalReduction>1</mechanicalReduction>
  </actuator>
</transmission>
<joint name="rigid48" type="fixed">
  <origin rpy="0 0 0" xyz="0.0308 0.00935 -0.026675"/>
  <parent link="Wheel_Motor_holder_v4_1"/>
  <child link="Wheel_Motor_1"/>
</joint>
<transmission name="rigid48_tran">
  <type>transmission_interface/SimpleTransmission</type>
  <joint name="rigid48">
    <hardwareInterface>PositionJointInterface</hardwareInterface>
  </joint>
  <actuator name="rigid48_actr">
    <hardwareInterface>PositionJointInterface</hardwareInterface>
    <mechanicalReduction>1</mechanicalReduction>
  </actuator>
</transmission>
<joint name="rigid49" type="fixed">
  <origin rpy="0 0 0" xyz="0.0008 0.00935 -0.026675"/>
  <parent link="Wheel_Motor_holder_v4_2"/>
  <child link="Wheel_Motor_2"/>
</joint>
<transmission name="rigid49_tran">
  <type>transmission_interface/SimpleTransmission</type>
  <joint name="rigid49">
    <hardwareInterface>PositionJointInterface</hardwareInterface>
  </joint>
  <actuator name="rigid49_actr">
    <hardwareInterface>PositionJointInterface</hardwareInterface>
    <mechanicalReduction>1</mechanicalReduction>
  </actuator>
</transmission>
<joint name="rigid50" type="fixed">
  <origin rpy="0 0 0" xyz="0.00045 -0.00935 -0.026675"/>
  <parent link="Wheel_Motor_holder_v4_3"/>
  <child link="Wheel_Motor_3"/>
</joint>
<transmission name="rigid50_tran">
  <type>transmission_interface/SimpleTransmission</type>
  <joint name="rigid50">
    <hardwareInterface>PositionJointInterface</hardwareInterface>
  </joint>
  <actuator name="rigid50_actr">
    <hardwareInterface>PositionJointInterface</hardwareInterface>
    <mechanicalReduction>1</mechanicalReduction>
  </actuator>
</transmission>
<joint name="rigid51" type="fixed">
  <origin rpy="0 0 0" xyz="-0.0008 -0.00935 -0.026675"/>
  <parent link="Wheel_Motor_holder_v4_4"/>
  <child link="Wheel_Motor_4"/>
</joint>
<transmission name="rigid51_tran">
  <type>transmission_interface/SimpleTransmission</type>
  <joint name="rigid51">
    <hardwareInterface>PositionJointInterface</hardwareInterface>
  </joint>
  <actuator name="rigid51_actr">
    <hardwareInterface>PositionJointInterface</hardwareInterface>
    <mechanicalReduction>1</mechanicalReduction>
  </actuator>
</transmission>
<joint name="revolute57" type="continuous">
  <origin rpy="0 0 0" xyz="1e-06 0.022999 0.023029"/>
  <parent link="LeftWheel_1"/>
  <child link="satelitewheel_1"/>
  <axis xyz="-0.007071 -0.007071 -0.0"/>
</joint>
<transmission name="revolute57_tran">
  <type>transmission_interface/SimpleTransmission</type>
  <joint name="revolute57">
    <hardwareInterface>PositionJointInterface</hardwareInterface>
  </joint>
  <actuator name="revolute57_actr">
    <hardwareInterface>PositionJointInterface</hardwareInterface>
    <mechanicalReduction>1</mechanicalReduction>
  </actuator>
</transmission>
<joint name="revolute58" type="continuous">
  <origin rpy="0 0 0" xyz="-0.016283 0.022999 0.016285"/>
  <parent link="LeftWheel_1"/>
  <child link="satelitewheel_2"/>
  <axis xyz="-0.005 -0.007071 -0.005"/>
</joint>
<transmission name="revolute58_tran">
  <type>transmission_interface/SimpleTransmission</type>
  <joint name="revolute58">
    <hardwareInterface>PositionJointInterface</hardwareInterface>
  </joint>
  <actuator name="revolute58_actr">
    <hardwareInterface>PositionJointInterface</hardwareInterface>
    <mechanicalReduction>1</mechanicalReduction>
  </actuator>
</transmission>
<joint name="revolute59" type="continuous">
  <origin rpy="0 0 0" xyz="-0.023029 0.022999 1e-06"/>
  <parent link="LeftWheel_1"/>
  <child link="satelitewheel_3"/>
  <axis xyz="0.0 -0.007071 -0.007071"/>
</joint>
<transmission name="revolute59_tran">
  <type>transmission_interface/SimpleTransmission</type>
  <joint name="revolute59">
    <hardwareInterface>PositionJointInterface</hardwareInterface>
  </joint>
  <actuator name="revolute59_actr">
    <hardwareInterface>PositionJointInterface</hardwareInterface>
    <mechanicalReduction>1</mechanicalReduction>
  </actuator>
</transmission>
<joint name="revolute60" type="continuous">
  <origin rpy="0 0 0" xyz="-0.016285 0.022999 -0.016283"/>
  <parent link="LeftWheel_1"/>
  <child link="satelitewheel_4"/>
  <axis xyz="0.005 -0.007071 -0.005"/>
</joint>
<transmission name="revolute60_tran">
  <type>transmission_interface/SimpleTransmission</type>
  <joint name="revolute60">
    <hardwareInterface>PositionJointInterface</hardwareInterface>
  </joint>
  <actuator name="revolute60_actr">
    <hardwareInterface>PositionJointInterface</hardwareInterface>
    <mechanicalReduction>1</mechanicalReduction>
  </actuator>
</transmission>
<joint name="revolute61" type="continuous">
  <origin rpy="0 0 0" xyz="-2e-06 0.022999 -0.023029"/>
  <parent link="LeftWheel_1"/>
  <child link="satelitewheel_5"/>
  <axis xyz="0.007071 -0.007071 0.0"/>
</joint>
<transmission name="revolute61_tran">
  <type>transmission_interface/SimpleTransmission</type>
  <joint name="revolute61">
    <hardwareInterface>PositionJointInterface</hardwareInterface>
  </joint>
  <actuator name="revolute61_actr">
    <hardwareInterface>PositionJointInterface</hardwareInterface>
    <mechanicalReduction>1</mechanicalReduction>
  </actuator>
</transmission>
<joint name="revolute62" type="continuous">
  <origin rpy="0 0 0" xyz="0.016283 0.022999 -0.016285"/>
  <parent link="LeftWheel_1"/>
  <child link="satelitewheel_6"/>
  <axis xyz="0.005 -0.007071 0.005"/>
</joint>
<transmission name="revolute62_tran">
  <type>transmission_interface/SimpleTransmission</type>
  <joint name="revolute62">
    <hardwareInterface>PositionJointInterface</hardwareInterface>
  </joint>
  <actuator name="revolute62_actr">
    <hardwareInterface>PositionJointInterface</hardwareInterface>
    <mechanicalReduction>1</mechanicalReduction>
  </actuator>
</transmission>
<joint name="revolute63" type="continuous">
  <origin rpy="0 0 0" xyz="0.023029 0.022999 -1e-06"/>
  <parent link="LeftWheel_1"/>
  <child link="satelitewheel_7"/>
  <axis xyz="-0.0 -0.007071 0.007071"/>
</joint>
<transmission name="revolute63_tran">
  <type>transmission_interface/SimpleTransmission</type>
  <joint name="revolute63">
    <hardwareInterface>PositionJointInterface</hardwareInterface>
  </joint>
  <actuator name="revolute63_actr">
    <hardwareInterface>PositionJointInterface</hardwareInterface>
    <mechanicalReduction>1</mechanicalReduction>
  </actuator>
</transmission>
<joint name="revolute64" type="continuous">
  <origin rpy="0 0 0" xyz="0.016285 0.022999 0.016283"/>
  <parent link="LeftWheel_1"/>
  <child link="satelitewheel_8"/>
  <axis xyz="-0.005 -0.007071 0.005"/>
</joint>
<transmission name="revolute64_tran">
  <type>transmission_interface/SimpleTransmission</type>
  <joint name="revolute64">
    <hardwareInterface>PositionJointInterface</hardwareInterface>
  </joint>
  <actuator name="revolute64_actr">
    <hardwareInterface>PositionJointInterface</hardwareInterface>
    <mechanicalReduction>1</mechanicalReduction>
  </actuator>
</transmission>
<joint name="revolute66" type="continuous">
  <origin rpy="0 0 0" xyz="-0.016285 0.022999 0.016283"/>
  <parent link="RightWheel_1"/>
  <child link="satelitewheel_r_1"/>
  <axis xyz="-0.005 0.007071 -0.005"/>
</joint>
<transmission name="revolute66_tran">
  <type>transmission_interface/SimpleTransmission</type>
  <joint name="revolute66">
    <hardwareInterface>PositionJointInterface</hardwareInterface>
  </joint>
  <actuator name="revolute66_actr">
    <hardwareInterface>PositionJointInterface</hardwareInterface>
    <mechanicalReduction>1</mechanicalReduction>
  </actuator>
</transmission>
<joint name="revolute67" type="continuous">
  <origin rpy="0 0 0" xyz="-0.023029 0.022999 -1e-06"/>
  <parent link="RightWheel_1"/>
  <child link="satelitewheel_r_2"/>
  <axis xyz="0.0 0.007071 -0.007071"/>
</joint>
<transmission name="revolute67_tran">
  <type>transmission_interface/SimpleTransmission</type>
  <joint name="revolute67">
    <hardwareInterface>PositionJointInterface</hardwareInterface>
  </joint>
  <actuator name="revolute67_actr">
    <hardwareInterface>PositionJointInterface</hardwareInterface>
    <mechanicalReduction>1</mechanicalReduction>
  </actuator>
</transmission>
<joint name="revolute68" type="continuous">
  <origin rpy="0 0 0" xyz="-0.016283 0.022999 -0.016285"/>
  <parent link="RightWheel_1"/>
  <child link="satelitewheel_r_3"/>
  <axis xyz="0.005 0.007071 -0.005"/>
</joint>
<transmission name="revolute68_tran">
  <type>transmission_interface/SimpleTransmission</type>
  <joint name="revolute68">
    <hardwareInterface>PositionJointInterface</hardwareInterface>
  </joint>
  <actuator name="revolute68_actr">
    <hardwareInterface>PositionJointInterface</hardwareInterface>
    <mechanicalReduction>1</mechanicalReduction>
  </actuator>
</transmission>
<joint name="revolute69" type="continuous">
  <origin rpy="0 0 0" xyz="1e-06 0.022999 -0.023029"/>
  <parent link="RightWheel_1"/>
  <child link="satelitewheel_r_4"/>
  <axis xyz="0.007071 0.007071 0.0"/>
</joint>
<transmission name="revolute69_tran">
  <type>transmission_interface/SimpleTransmission</type>
  <joint name="revolute69">
    <hardwareInterface>PositionJointInterface</hardwareInterface>
  </joint>
  <actuator name="revolute69_actr">
    <hardwareInterface>PositionJointInterface</hardwareInterface>
    <mechanicalReduction>1</mechanicalReduction>
  </actuator>
</transmission>
<joint name="revolute70" type="continuous">
  <origin rpy="0 0 0" xyz="0.016285 0.022999 -0.016283"/>
  <parent link="RightWheel_1"/>
  <child link="satelitewheel_r_5"/>
  <axis xyz="0.005 0.007071 0.005"/>
</joint>
<transmission name="revolute70_tran">
  <type>transmission_interface/SimpleTransmission</type>
  <joint name="revolute70">
    <hardwareInterface>PositionJointInterface</hardwareInterface>
  </joint>
  <actuator name="revolute70_actr">
    <hardwareInterface>PositionJointInterface</hardwareInterface>
    <mechanicalReduction>1</mechanicalReduction>
  </actuator>
</transmission>
<joint name="revolute71" type="continuous">
  <origin rpy="0 0 0" xyz="0.023029 0.022999 1e-06"/>
  <parent link="RightWheel_1"/>
  <child link="satelitewheel_r_6"/>
  <axis xyz="-0.0 0.007071 0.007071"/>
</joint>
<transmission name="revolute71_tran">
  <type>transmission_interface/SimpleTransmission</type>
  <joint name="revolute71">
    <hardwareInterface>PositionJointInterface</hardwareInterface>
  </joint>
  <actuator name="revolute71_actr">
    <hardwareInterface>PositionJointInterface</hardwareInterface>
    <mechanicalReduction>1</mechanicalReduction>
  </actuator>
</transmission>
<joint name="revolute72" type="continuous">
  <origin rpy="0 0 0" xyz="0.016283 0.022999 0.016285"/>
  <parent link="RightWheel_1"/>
  <child link="satelitewheel_r_7"/>
  <axis xyz="-0.005 0.007071 0.005"/>
</joint>
<transmission name="revolute72_tran">
  <type>transmission_interface/SimpleTransmission</type>
  <joint name="revolute72">
    <hardwareInterface>PositionJointInterface</hardwareInterface>
  </joint>
  <actuator name="revolute72_actr">
    <hardwareInterface>PositionJointInterface</hardwareInterface>
    <mechanicalReduction>1</mechanicalReduction>
  </actuator>
</transmission>
<joint name="revolute73" type="continuous">
  <origin rpy="0 0 0" xyz="-1e-06 0.022999 0.023029"/>
  <parent link="RightWheel_1"/>
  <child link="satelitewheel_r_8"/>
  <axis xyz="-0.007071 0.007071 -0.0"/>
</joint>
<transmission name="revolute73_tran">
  <type>transmission_interface/SimpleTransmission</type>
  <joint name="revolute73">
    <hardwareInterface>PositionJointInterface</hardwareInterface>
  </joint>
  <actuator name="revolute73_actr">
    <hardwareInterface>PositionJointInterface</hardwareInterface>
    <mechanicalReduction>1</mechanicalReduction>
  </actuator>
</transmission>
<joint name="revolute76" type="continuous">
  <origin rpy="0 0 0" xyz="-1e-06 -0.022999 0.023029"/>
  <parent link="LeftWheel_2"/>
  <child link="satelitewheel_9"/>
  <axis xyz="0.007071 0.007071 0.0"/>
</joint>
<transmission name="revolute76_tran">
  <type>transmission_interface/SimpleTransmission</type>
  <joint name="revolute76">
    <hardwareInterface>PositionJointInterface</hardwareInterface>
  </joint>
  <actuator name="revolute76_actr">
    <hardwareInterface>PositionJointInterface</hardwareInterface>
    <mechanicalReduction>1</mechanicalReduction>
  </actuator>
</transmission>
<joint name="revolute77" type="continuous">
  <origin rpy="0 0 0" xyz="0.016283 -0.022999 0.016285"/>
  <parent link="LeftWheel_2"/>
  <child link="satelitewheel_11"/>
  <axis xyz="0.005 0.007071 -0.005"/>
</joint>
<transmission name="revolute77_tran">
  <type>transmission_interface/SimpleTransmission</type>
  <joint name="revolute77">
    <hardwareInterface>PositionJointInterface</hardwareInterface>
  </joint>
  <actuator name="revolute77_actr">
    <hardwareInterface>PositionJointInterface</hardwareInterface>
    <mechanicalReduction>1</mechanicalReduction>
  </actuator>
</transmission>
<joint name="revolute78" type="continuous">
  <origin rpy="0 0 0" xyz="0.023029 -0.022999 1e-06"/>
  <parent link="LeftWheel_2"/>
  <child link="satelitewheel_12"/>
  <axis xyz="0.0 0.007071 -0.007071"/>
</joint>
<transmission name="revolute78_tran">
  <type>transmission_interface/SimpleTransmission</type>
  <joint name="revolute78">
    <hardwareInterface>PositionJointInterface</hardwareInterface>
  </joint>
  <actuator name="revolute78_actr">
    <hardwareInterface>PositionJointInterface</hardwareInterface>
    <mechanicalReduction>1</mechanicalReduction>
  </actuator>
</transmission>
<joint name="revolute79" type="continuous">
  <origin rpy="0 0 0" xyz="0.016285 -0.022999 -0.016283"/>
  <parent link="LeftWheel_2"/>
  <child link="satelitewheel_10"/>
  <axis xyz="-0.005 0.007071 -0.005"/>
</joint>
<transmission name="revolute79_tran">
  <type>transmission_interface/SimpleTransmission</type>
  <joint name="revolute79">
    <hardwareInterface>PositionJointInterface</hardwareInterface>
  </joint>
  <actuator name="revolute79_actr">
    <hardwareInterface>PositionJointInterface</hardwareInterface>
    <mechanicalReduction>1</mechanicalReduction>
  </actuator>
</transmission>
<joint name="revolute80" type="continuous">
  <origin rpy="0 0 0" xyz="1e-06 -0.022999 -0.023029"/>
  <parent link="LeftWheel_2"/>
  <child link="satelitewheel_13"/>
  <axis xyz="-0.007071 0.007071 -0.0"/>
</joint>
<transmission name="revolute80_tran">
  <type>transmission_interface/SimpleTransmission</type>
  <joint name="revolute80">
    <hardwareInterface>PositionJointInterface</hardwareInterface>
  </joint>
  <actuator name="revolute80_actr">
    <hardwareInterface>PositionJointInterface</hardwareInterface>
    <mechanicalReduction>1</mechanicalReduction>
  </actuator>
</transmission>
<joint name="revolute81" type="continuous">
  <origin rpy="0 0 0" xyz="-0.016283 -0.022999 -0.016285"/>
  <parent link="LeftWheel_2"/>
  <child link="satelitewheel_16"/>
  <axis xyz="-0.005 0.007071 0.005"/>
</joint>
<transmission name="revolute81_tran">
  <type>transmission_interface/SimpleTransmission</type>
  <joint name="revolute81">
    <hardwareInterface>PositionJointInterface</hardwareInterface>
  </joint>
  <actuator name="revolute81_actr">
    <hardwareInterface>PositionJointInterface</hardwareInterface>
    <mechanicalReduction>1</mechanicalReduction>
  </actuator>
</transmission>
<joint name="revolute82" type="continuous">
  <origin rpy="0 0 0" xyz="-0.023029 -0.022999 -1e-06"/>
  <parent link="LeftWheel_2"/>
  <child link="satelitewheel_15"/>
  <axis xyz="-0.0 0.007071 0.007071"/>
</joint>
<transmission name="revolute82_tran">
  <type>transmission_interface/SimpleTransmission</type>
  <joint name="revolute82">
    <hardwareInterface>PositionJointInterface</hardwareInterface>
  </joint>
  <actuator name="revolute82_actr">
    <hardwareInterface>PositionJointInterface</hardwareInterface>
    <mechanicalReduction>1</mechanicalReduction>
  </actuator>
</transmission>
<joint name="revolute83" type="continuous">
  <origin rpy="0 0 0" xyz="-0.016285 -0.022999 0.016283"/>
  <parent link="LeftWheel_2"/>
  <child link="satelitewheel_14"/>
  <axis xyz="0.005 0.007071 0.005"/>
</joint>
<transmission name="revolute83_tran">
  <type>transmission_interface/SimpleTransmission</type>
  <joint name="revolute83">
    <hardwareInterface>PositionJointInterface</hardwareInterface>
  </joint>
  <actuator name="revolute83_actr">
    <hardwareInterface>PositionJointInterface</hardwareInterface>
    <mechanicalReduction>1</mechanicalReduction>
  </actuator>
</transmission>
<joint name="revolute84" type="continuous">
  <origin rpy="0 0 0" xyz="0.016285 -0.022999 0.016283"/>
  <parent link="RightWheel_2"/>
  <child link="satelitewheel_r_9"/>
  <axis xyz="0.005 -0.007071 -0.005"/>
</joint>
<transmission name="revolute84_tran">
  <type>transmission_interface/SimpleTransmission</type>
  <joint name="revolute84">
    <hardwareInterface>PositionJointInterface</hardwareInterface>
  </joint>
  <actuator name="revolute84_actr">
    <hardwareInterface>PositionJointInterface</hardwareInterface>
    <mechanicalReduction>1</mechanicalReduction>
  </actuator>
</transmission>
<joint name="revolute85" type="continuous">
  <origin rpy="0 0 0" xyz="0.023029 -0.022999 -1e-06"/>
  <parent link="RightWheel_2"/>
  <child link="satelitewheel_r_10"/>
  <axis xyz="0.0 -0.007071 -0.007071"/>
</joint>
<transmission name="revolute85_tran">
  <type>transmission_interface/SimpleTransmission</type>
  <joint name="revolute85">
    <hardwareInterface>PositionJointInterface</hardwareInterface>
  </joint>
  <actuator name="revolute85_actr">
    <hardwareInterface>PositionJointInterface</hardwareInterface>
    <mechanicalReduction>1</mechanicalReduction>
  </actuator>
</transmission>
<joint name="revolute86" type="continuous">
  <origin rpy="0 0 0" xyz="0.016283 -0.022999 -0.016285"/>
  <parent link="RightWheel_2"/>
  <child link="satelitewheel_r_11"/>
  <axis xyz="-0.005 -0.007071 -0.005"/>
</joint>
<transmission name="revolute86_tran">
  <type>transmission_interface/SimpleTransmission</type>
  <joint name="revolute86">
    <hardwareInterface>PositionJointInterface</hardwareInterface>
  </joint>
  <actuator name="revolute86_actr">
    <hardwareInterface>PositionJointInterface</hardwareInterface>
    <mechanicalReduction>1</mechanicalReduction>
  </actuator>
</transmission>
<joint name="revolute87" type="continuous">
  <origin rpy="0 0 0" xyz="-2e-06 -0.022999 -0.023029"/>
  <parent link="RightWheel_2"/>
  <child link="satelitewheel_r_16"/>
  <axis xyz="-0.007071 -0.007071 -0.0"/>
</joint>
<transmission name="revolute87_tran">
  <type>transmission_interface/SimpleTransmission</type>
  <joint name="revolute87">
    <hardwareInterface>PositionJointInterface</hardwareInterface>
  </joint>
  <actuator name="revolute87_actr">
    <hardwareInterface>PositionJointInterface</hardwareInterface>
    <mechanicalReduction>1</mechanicalReduction>
  </actuator>
</transmission>
<joint name="revolute88" type="continuous">
  <origin rpy="0 0 0" xyz="-0.016285 -0.022999 -0.016283"/>
  <parent link="RightWheel_2"/>
  <child link="satelitewheel_r_15"/>
  <axis xyz="-0.005 -0.007071 0.005"/>
</joint>
<transmission name="revolute88_tran">
  <type>transmission_interface/SimpleTransmission</type>
  <joint name="revolute88">
    <hardwareInterface>PositionJointInterface</hardwareInterface>
  </joint>
  <actuator name="revolute88_actr">
    <hardwareInterface>PositionJointInterface</hardwareInterface>
    <mechanicalReduction>1</mechanicalReduction>
  </actuator>
</transmission>
<joint name="revolute89" type="continuous">
  <origin rpy="0 0 0" xyz="-0.023029 -0.022999 1e-06"/>
  <parent link="RightWheel_2"/>
  <child link="satelitewheel_r_12"/>
  <axis xyz="-0.0 -0.007071 0.007071"/>
</joint>
<transmission name="revolute89_tran">
  <type>transmission_interface/SimpleTransmission</type>
  <joint name="revolute89">
    <hardwareInterface>PositionJointInterface</hardwareInterface>
  </joint>
  <actuator name="revolute89_actr">
    <hardwareInterface>PositionJointInterface</hardwareInterface>
    <mechanicalReduction>1</mechanicalReduction>
  </actuator>
</transmission>
<joint name="revolute90" type="continuous">
  <origin rpy="0 0 0" xyz="-0.016283 -0.022999 0.016285"/>
  <parent link="RightWheel_2"/>
  <child link="satelitewheel_r_13"/>
  <axis xyz="0.005 -0.007071 0.005"/>
</joint>
<transmission name="revolute90_tran">
  <type>transmission_interface/SimpleTransmission</type>
  <joint name="revolute90">
    <hardwareInterface>PositionJointInterface</hardwareInterface>
  </joint>
  <actuator name="revolute90_actr">
    <hardwareInterface>PositionJointInterface</hardwareInterface>
    <mechanicalReduction>1</mechanicalReduction>
  </actuator>
</transmission>
<joint name="revolute91" type="continuous">
  <origin rpy="0 0 0" xyz="1e-06 -0.022999 0.023029"/>
  <parent link="RightWheel_2"/>
  <child link="satelitewheel_r_14"/>
  <axis xyz="0.007071 -0.007071 0.0"/>
</joint>
<transmission name="revolute91_tran">
  <type>transmission_interface/SimpleTransmission</type>
  <joint name="revolute91">
    <hardwareInterface>PositionJointInterface</hardwareInterface>
  </joint>
  <actuator name="revolute91_actr">
    <hardwareInterface>PositionJointInterface</hardwareInterface>
    <mechanicalReduction>1</mechanicalReduction>
  </actuator>
</transmission>
<joint name="FB" type="continuous">
  <origin rpy="0 0 0" xyz="-0.0155 0.0135 -0.007"/>
  <parent link="Wheel_Motor_2"/>
  <child link="LeftWheel_1"/>
  <axis xyz="0.0 -0.01 -0.0"/>
</joint>
<transmission name="FB_tran">
  <type>transmission_interface/SimpleTransmission</type>
  <joint name="FB">
    <hardwareInterface>PositionJointInterface</hardwareInterface>
  </joint>
  <actuator name="FB_actr">
    <hardwareInterface>PositionJointInterface</hardwareInterface>
    <mechanicalReduction>1</mechanicalReduction>
  </actuator>
</transmission>
<joint name="RB" type="continuous">
  <origin rpy="0 0 0" xyz="-0.0155 0.0135 -0.007"/>
  <parent link="Wheel_Motor_1"/>
  <child link="RightWheel_1"/>
  <axis xyz="0.0 -0.01 -0.0"/>
</joint>
<transmission name="RB_tran">
  <type>transmission_interface/SimpleTransmission</type>
  <joint name="RB">
    <hardwareInterface>PositionJointInterface</hardwareInterface>
  </joint>
  <actuator name="RB_actr">
    <hardwareInterface>PositionJointInterface</hardwareInterface>
    <mechanicalReduction>1</mechanicalReduction>
  </actuator>
</transmission>
<joint name="LF" type="continuous">
  <origin rpy="0 0 0" xyz="-0.0155 -0.0135 -0.007"/>
  <parent link="Wheel_Motor_3"/>
  <child link="RightWheel_2"/>
  <axis xyz="-0.0 0.01 -0.0"/>
</joint>
<transmission name="LF_tran">
  <type>transmission_interface/SimpleTransmission</type>
  <joint name="LF">
    <hardwareInterface>PositionJointInterface</hardwareInterface>
  </joint>
  <actuator name="LF_actr">
    <hardwareInterface>PositionJointInterface</hardwareInterface>
    <mechanicalReduction>1</mechanicalReduction>
  </actuator>
</transmission>
<joint name="LB" type="continuous">
  <origin rpy="0 0 0" xyz="0.0155 -0.0135 -0.007"/>
  <parent link="Wheel_Motor_4"/>
  <child link="LeftWheel_2"/>
  <axis xyz="-0.0 0.01 -0.0"/>
</joint>
<transmission name="LB_tran">
  <type>transmission_interface/SimpleTransmission</type>
  <joint name="LB">
    <hardwareInterface>PositionJointInterface</hardwareInterface>
  </joint>
  <actuator name="LB_actr">
    <hardwareInterface>PositionJointInterface</hardwareInterface>
    <mechanicalReduction>1</mechanicalReduction>
  </actuator>
</transmission>
<joint name="rigid96" type="fixed">
  <origin rpy="0 0 0" xyz="0.024873 0.0186 0.008015"/>
  <parent link="carboat_3_1"/>
  <child link="Servo2_1"/>
</joint>
<transmission name="rigid96_tran">
  <type>transmission_interface/SimpleTransmission</type>
  <joint name="rigid96">
    <hardwareInterface>PositionJointInterface</hardwareInterface>
  </joint>
  <actuator name="rigid96_actr">
    <hardwareInterface>PositionJointInterface</hardwareInterface>
    <mechanicalReduction>1</mechanicalReduction>
  </actuator>
</transmission>
<joint name="Head_motor" type="continuous">
  <origin rpy="0 0 0" xyz="-0.01545 0.0154 0.005"/>
  <parent link="Servo2_1"/>
  <child link="Gear_Pan_Neck_1"/>
  <axis xyz="-0.0 0.01 0.0"/>
</joint>
<transmission name="Head_motor_tran">
  <type>transmission_interface/SimpleTransmission</type>
  <joint name="Head_motor">
    <hardwareInterface>PositionJointInterface</hardwareInterface>
  </joint>
  <actuator name="Head_motor_actr">
    <hardwareInterface>PositionJointInterface</hardwareInterface>
    <mechanicalReduction>1</mechanicalReduction>
  </actuator>
</transmission>
<gazebo>
  <plugin filename="libgazebo_ros_control.so" name="control"/>
</gazebo>
</robot>
